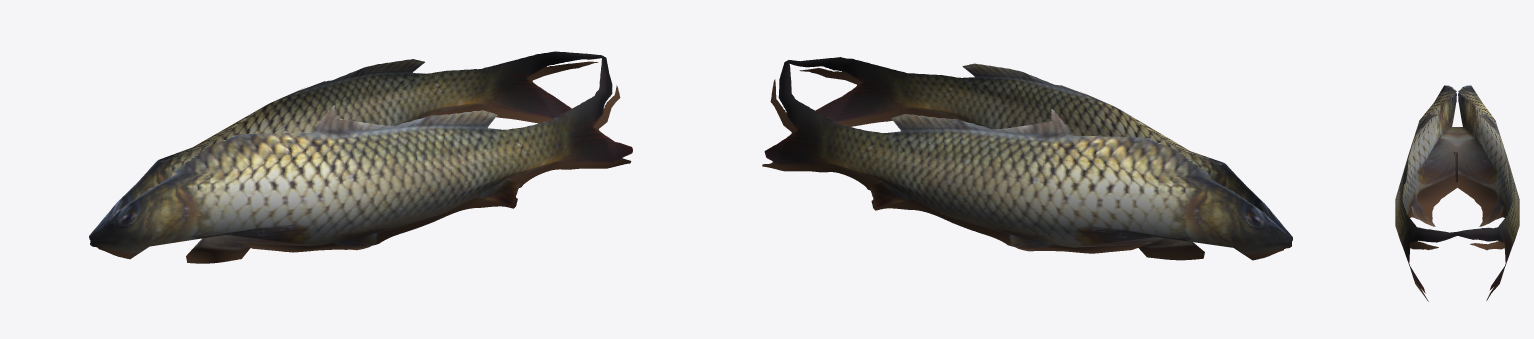
File: carp_fbx.fbx
The picture shows the model from 3 angles, left to right: view 1: azimuth 30°, elevation 25°; view 2: azimuth 150°, elevation 25°; view 3: azimuth 270°, elevation 25°; orthographic projection. The views are drawn at different scales.
Visible parts, largest first — view 1: pPlane5; view 2: pPlane5; view 3: pPlane5.
Part boxes in pixels (x1,y1,x2,y2): pPlane5: (89,51,632,263); pPlane5: (762,57,1292,260); pPlane5: (1395,85,1519,301).
Bounding box in the file's own units: 31.21 × 13.42 × 7.11.
